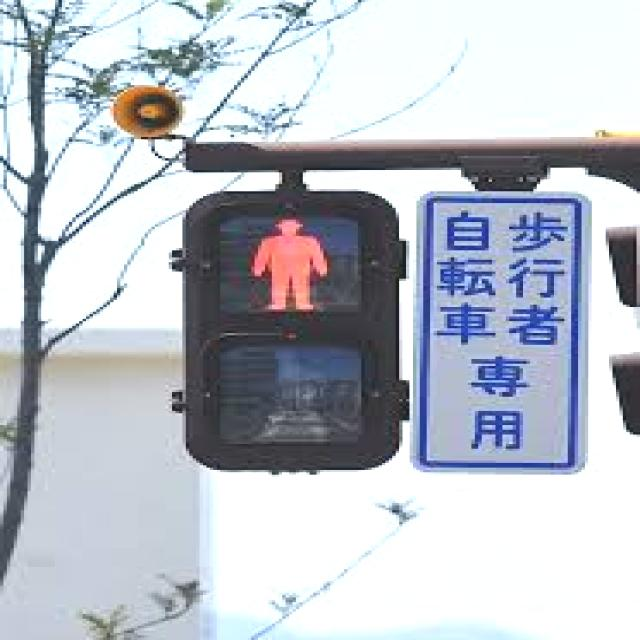trafficlight: (176, 193, 396, 468)
